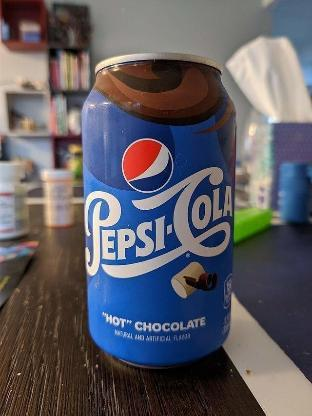Can: (80, 52, 238, 372)
